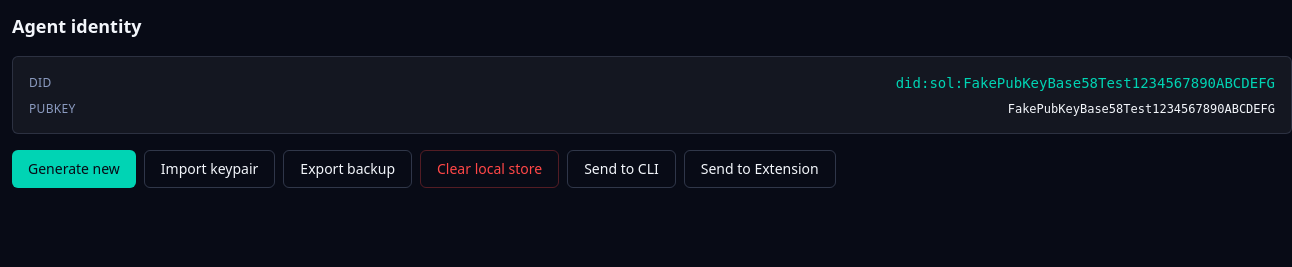
Test: IdentityPanel › send_to_cli_5xx_shows_generic_error_with_server_message
The width and height of the screenshot is (1292, 267).
What coordinates should you click on to do the following:
click the button with test id "identity-send-to-cli"
I would click on:
 (622, 169)
Its box is [567,150,676,188].
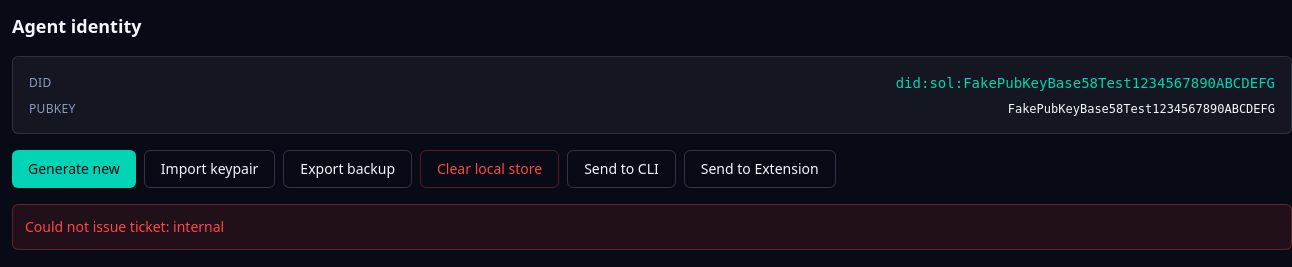
Now the message with test id "identity-cli-error" reads "Could not issue ticket: internal", box [25,217,224,236]
